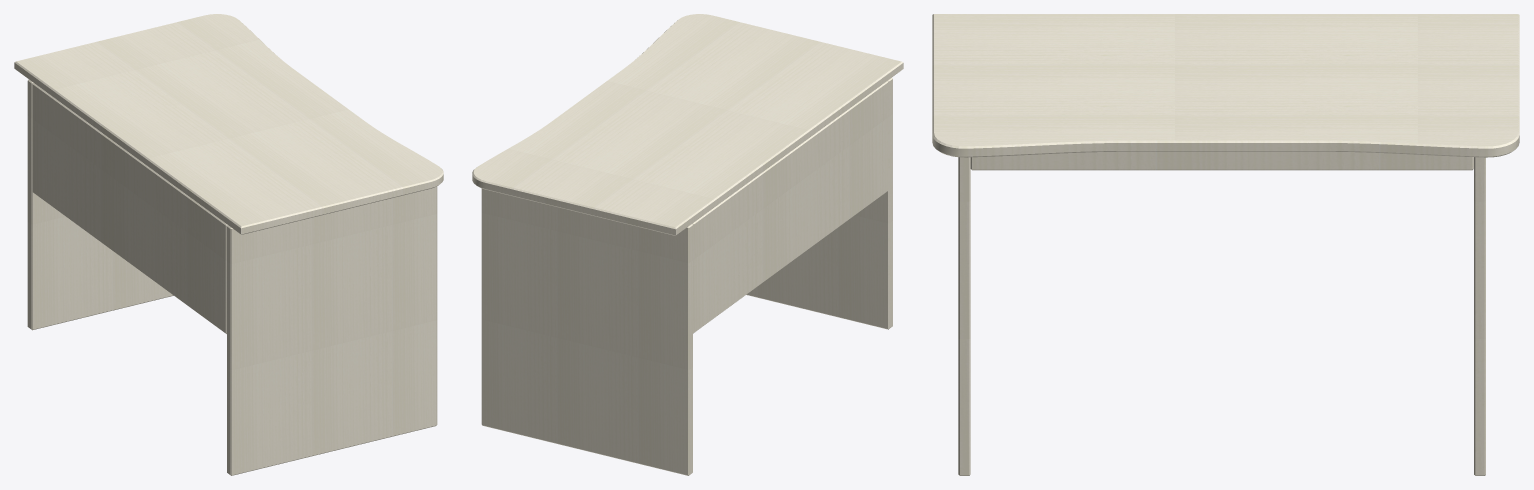
File: table.fbx
The picture shows the model from 3 angles, left to right: view 1: azimuth 30°, elevation 25°; view 2: azimuth 150°, elevation 25°; view 3: azimuth 270°, elevation 25°; orthographic projection. The views are drawn at different scales.
Parts seen in each view (by area): view 1: 3DXY_geometry_001; view 2: 3DXY_geometry_001; view 3: 3DXY_geometry_001.
Part boxes in pixels (x1=…): 3DXY_geometry_001: x1=14, y1=14, x2=443, y2=475; 3DXY_geometry_001: x1=472, y1=14, x2=903, y2=475; 3DXY_geometry_001: x1=932, y1=14, x2=1519, y2=475.
Bounding box in the file's own units: 25.49 × 29.53 × 47.24.
1 material, 1 textured.
